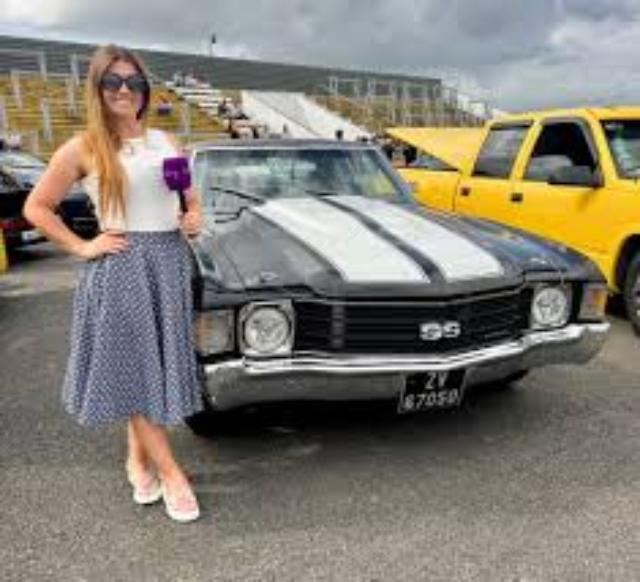chevelle-1972: (185, 139, 602, 433)
